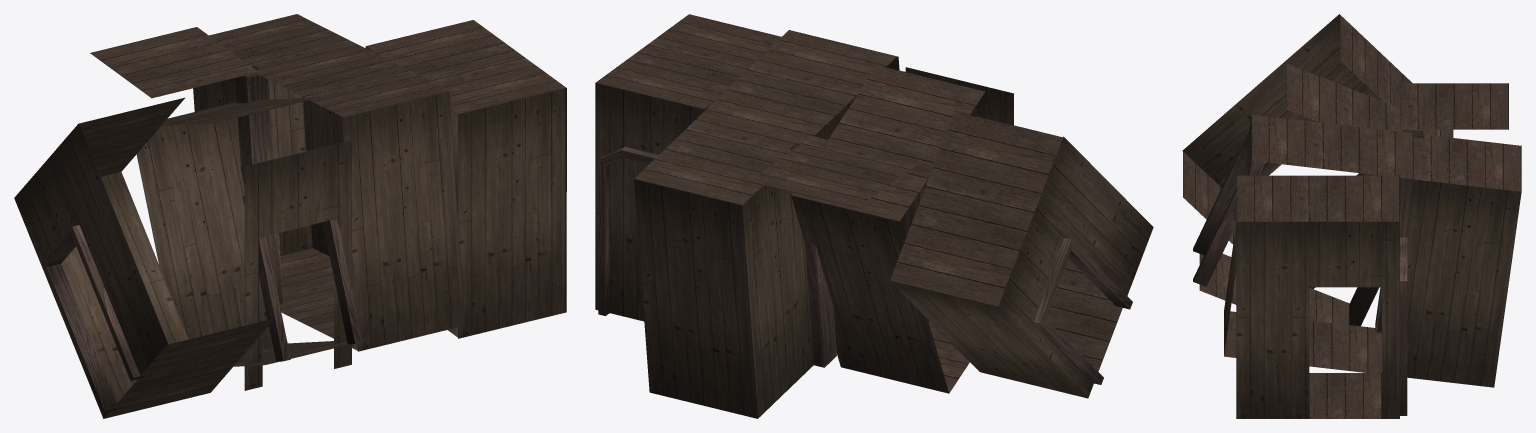
The model's file is Hallway_Stage-2 (1).fbx.
3 views of the same model, side by side, from view 1: azimuth 30°, elevation 25°; view 2: azimuth 150°, elevation 25°; view 3: azimuth 270°, elevation 25° (orthographic). The views are drawn at different scales.
Visible parts, largest first — view 1: Wall_W_3x1_5__6_, Wall_W_3x1_5__7_, Wall_W_3x1_5_1, Wall_W_3x1_5_Door__1_, Wall_W_3x0_75_Single_Faced, Wall_W_3x1_5, Floor_T_1_5x1_5__5_, Floor_T_1_5x1_5__2__1, Wall_W_3x1_5_Door, Doorframe_3x1_5, Floor_T_1_5x1_5__1__1, Floor_T_1_5x1_5_1 (+16 smaller); view 2: Wall_W_3x1_5__1__1, Wall_W_3x1_5_1, Floor_T_1_5x1_5__4__1, Wall_W_3x1_5__3_, Wall_W_3x1_5__2_, Floor_T_1_5x1_5__1__1, Floor_T_1_5x1_5_1, Wall_W_3x1_5, Wall_W_3x0_75_Single_Faced, Wall_W_3x1_5_Door, Floor_T_1_5x0_75_1, Floor_T_1_5x1_5__5_ (+12 smaller); view 3: Wall_W_3x1_5__5_, Wall_W_3x1_5_Door__2_, Wall_W_3x0_75_Single_Faced__1_, Wall_W_3x0_75_Single_Faced, Floor_T_1_5x1_5__5_, Floor_T_1_5x1_5__2__1, Floor_T_1_5x1_5__1__1, Floor_T_1_5x1_5_1, Floor_T_1_5x1_5__1_, Floor_T_1_5x1_5__2_, Doorframe_3x1_5__2_, Floor_T_1_5x0_75__3__1 (+14 smaller).
Part boxes in pixels (box(x1,y1,x2,y2)): Wall_W_3x1_5__6_: box(342, 91, 464, 351); Wall_W_3x1_5__7_: box(458, 88, 565, 338); Wall_W_3x1_5_1: box(136, 118, 286, 349); Wall_W_3x1_5_Door__1_: box(244, 140, 351, 390); Wall_W_3x0_75_Single_Faced: box(57, 123, 167, 368); Wall_W_3x1_5: box(61, 172, 188, 402); Floor_T_1_5x1_5__5_: box(90, 27, 258, 98); Floor_T_1_5x1_5__2__1: box(366, 20, 534, 87); Wall_W_3x1_5_Door: box(14, 149, 146, 418); Doorframe_3x1_5: box(41, 225, 147, 413); Floor_T_1_5x1_5__1__1: box(256, 45, 419, 101); Floor_T_1_5x1_5_1: box(209, 14, 358, 68); Wall_W_3x1_5__1__1: box(634, 179, 757, 418); Wall_W_3x1_5_1: box(791, 195, 948, 393); Floor_T_1_5x1_5__4__1: box(890, 167, 1041, 307); Wall_W_3x1_5__3_: box(742, 185, 813, 418); Wall_W_3x1_5__2_: box(596, 83, 704, 321); Floor_T_1_5x1_5__1__1: box(696, 60, 863, 144); Floor_T_1_5x1_5_1: box(634, 119, 792, 205); Wall_W_3x1_5: box(890, 281, 1087, 398); Wall_W_3x0_75_Single_Faced: box(1041, 136, 1153, 284); Wall_W_3x1_5_Door: box(998, 194, 1131, 398); Floor_T_1_5x0_75_1: box(933, 111, 1062, 193); Floor_T_1_5x1_5__5_: box(749, 136, 919, 207); Wall_W_3x1_5__5_: box(1405, 179, 1521, 387); Wall_W_3x1_5_Door__2_: box(1291, 221, 1399, 418); Wall_W_3x0_75_Single_Faced__1_: box(1236, 221, 1291, 418); Wall_W_3x0_75_Single_Faced: box(1182, 14, 1372, 186); Floor_T_1_5x1_5__5_: box(1400, 83, 1508, 129); Floor_T_1_5x1_5__2__1: box(1291, 175, 1399, 221); Floor_T_1_5x1_5__1__1: box(1305, 121, 1413, 179); Floor_T_1_5x1_5_1: box(1413, 134, 1521, 191); Floor_T_1_5x1_5__1_: box(1309, 320, 1381, 372); Floor_T_1_5x1_5__2_: box(1309, 373, 1381, 418); Doorframe_3x1_5__2_: box(1193, 132, 1265, 286); Floor_T_1_5x0_75__3__1: box(1236, 175, 1291, 221).
Bounding box in the file's own units: 610 × 371 × 467.
Materials: 6 (6 with a texture image).
